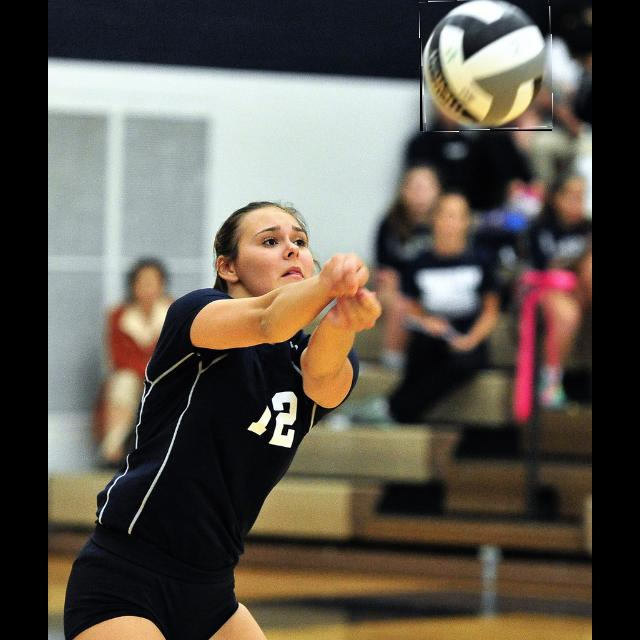Football: (420, 0, 552, 131)
